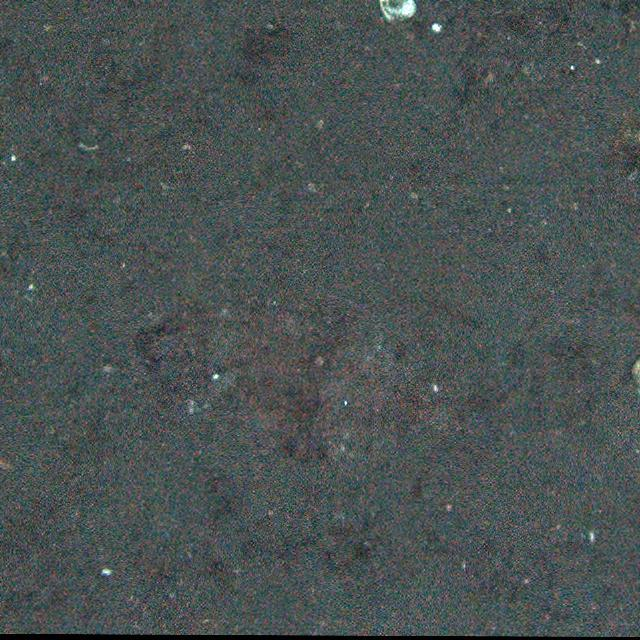flatfish: (145, 280, 526, 468)
